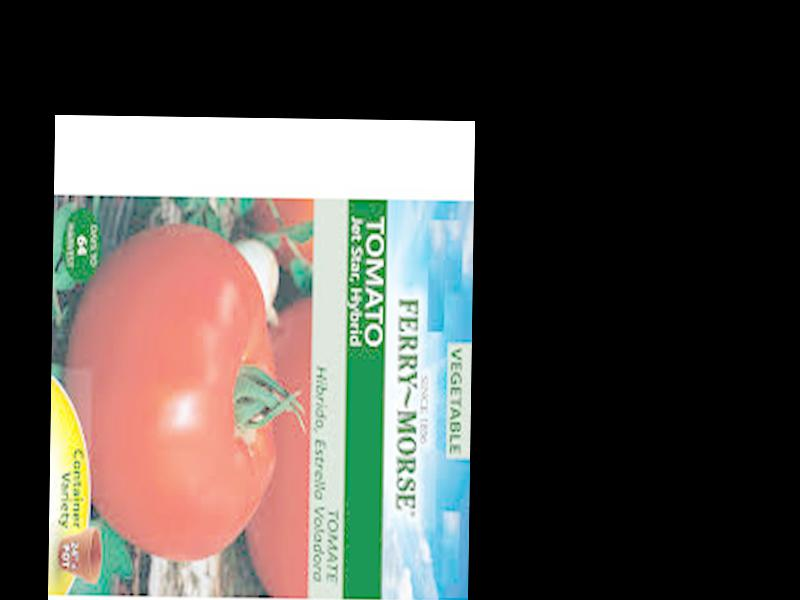Tomato: (63, 222, 279, 559)
